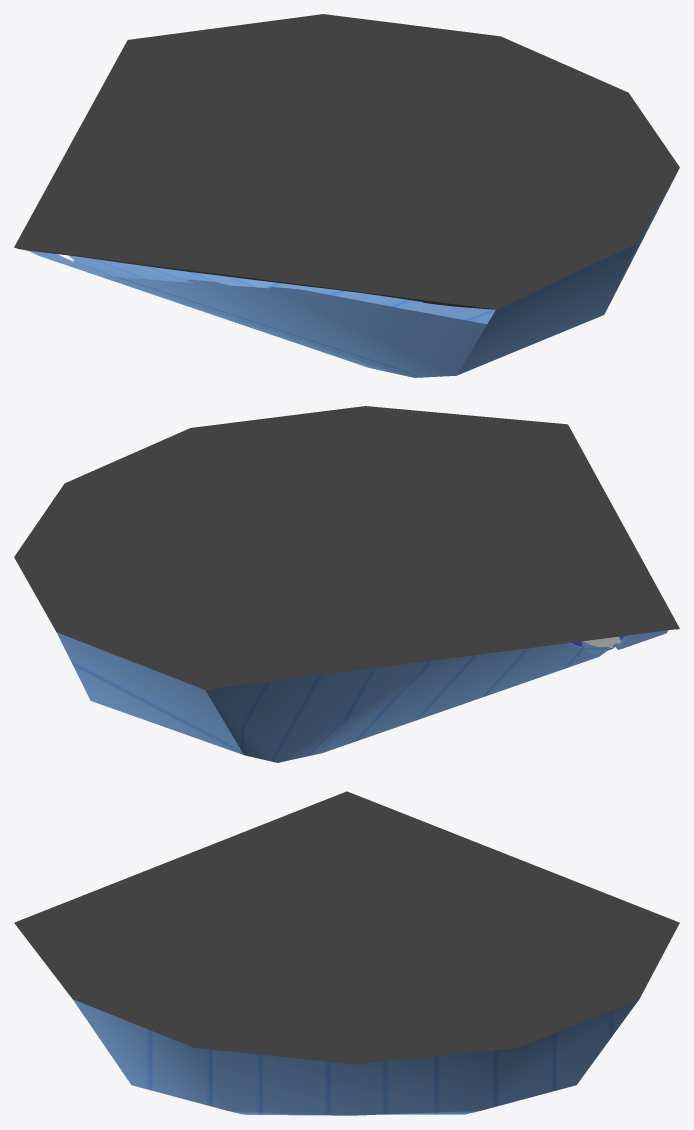
File: WhaleJaw.fbx
The picture shows the model from 3 angles, top to bottom: view 1: azimuth 30°, elevation 25°; view 2: azimuth 150°, elevation 25°; view 3: azimuth 270°, elevation 25°; orthographic projection. The views are drawn at different scales.
Visible parts, largest first — view 1: pCube1; view 2: pCube1; view 3: pCube1.
Part boxes in pixels (x1,y1,x2,y2): pCube1: (14, 14, 679, 377); pCube1: (14, 406, 679, 762); pCube1: (14, 791, 679, 1115).
Bounding box in the file's own units: 19.51 × 4.56 × 20.09.
